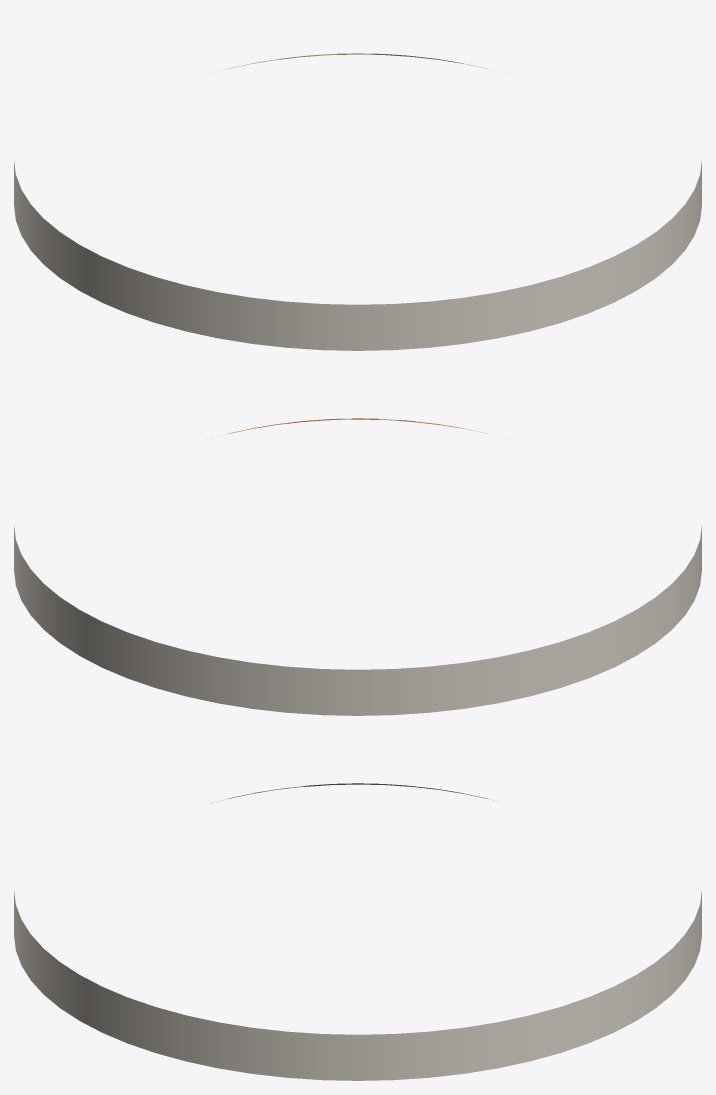
Rendered from dal-makhani.glb.
3 renders of one model, top to bottom at view 1: azimuth 30°, elevation 25°; view 2: azimuth 150°, elevation 25°; view 3: azimuth 270°, elevation 25°, orthographic.
Visible parts, largest first — view 1: dal-makhani; view 2: dal-makhani; view 3: dal-makhani.
Boxes of the visible parts, left/top/right/bottom form: dal-makhani: left=14, top=53, right=701, bottom=350; dal-makhani: left=14, top=418, right=701, bottom=715; dal-makhani: left=14, top=783, right=701, bottom=1080.
Size of the model in its own units: 0.27 by 0.0415 by 0.27.
1 material, 1 textured.
